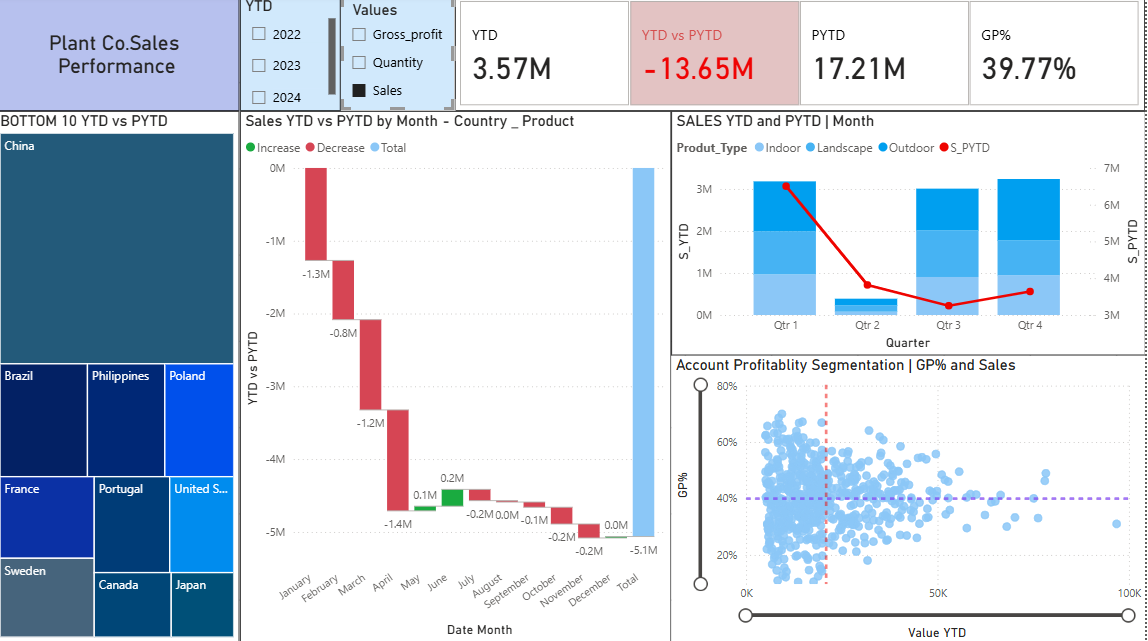

The page's visual inventory and layout, read from the dashboard file:
{"tool":"powerbi","page":{"name":"Page 1","canvas":[1280,720],"ordinal":0},"visuals":[{"type":"cardVisual","fields":{"Data":["_Measures.S_YTD","_Measures.YTD vs PYTD","_Measures.S_PYTD","_Measures.GP%"]},"box":[512,0,768,128],"z":0},{"type":"slicer","fields":{"Values":["Slc_values.Values"]},"box":[384,0,128,128],"z":1000},{"type":"slicer","title":"YTD","fields":{"Values":["Dim_date.Date.Variation.Date Hierarchy.Year"]},"box":[272,0,112,128],"z":2000},{"type":"treemap","title":"BOTTOM 10 YTD vs PYTD","fields":{"Values":["_Measures.YTD vs PYTD"],"Group":["Dim_account.country"]},"box":[0,128,272,592],"z":3000},{"type":"waterfallChart","title":"Sales YTD vs PYTD by Month - Country _ Product","fields":{"Y":["_Measures.YTD vs PYTD"],"Category":["Dim_date.Date.Variation.Date Hierarchy.Month","Dim_account.country","Dim_product.Produt_Type","Dim_product.Product_Name"]},"box":[272,128,480,592],"z":4000},{"type":"lineStackedColumnComboChart","title":"SALES YTD and PYTD | Month","fields":{"Y":["_Measures.S_YTD"],"Y2":["_Measures.S_PYTD"],"Category":["Dim_date.Date.Variation.Date Hierarchy.Quarter","Dim_date.Date.Variation.Date Hierarchy.Month"],"Series":["Dim_product.Produt_Type"]},"box":[752,128,528,272],"z":5000},{"type":"scatterChart","title":"Account Profitablity Segmentation | GP% and Sales","fields":{"Y":["_Measures.GP%"],"X":["_Measures.S_YTD"],"Category":["Dim_account.Account"]},"box":[752,400,528,320],"z":6000},{"type":"card","fields":{"Values":["_Measures._report_title"]},"box":[0,0,272,128],"z":7000}]}

Visuals, with their boxes in screenshot pixels (x1, y1, x2, y2), scaled from the page's 1280x720 canvas onto the 1148x641 screenshot:
cardVisual - _Measures.S_YTD x _Measures.YTD vs PYTD: <bbox>459, 0, 1147, 114</bbox>
slicer - Slc_values.Values: <bbox>344, 0, 459, 114</bbox>
"YTD" slicer: <bbox>244, 0, 344, 114</bbox>
"BOTTOM 10 YTD vs PYTD" treemap: <bbox>0, 114, 244, 640</bbox>
"Sales YTD vs PYTD by Month - Country _ Product" waterfallChart: <bbox>244, 114, 674, 640</bbox>
"SALES YTD and PYTD | Month" lineStackedColumnComboChart: <bbox>674, 114, 1147, 356</bbox>
"Account Profitablity Segmentation | GP% and Sales" scatterChart: <bbox>674, 356, 1147, 640</bbox>
card - _Measures._report_title: <bbox>0, 0, 244, 114</bbox>
